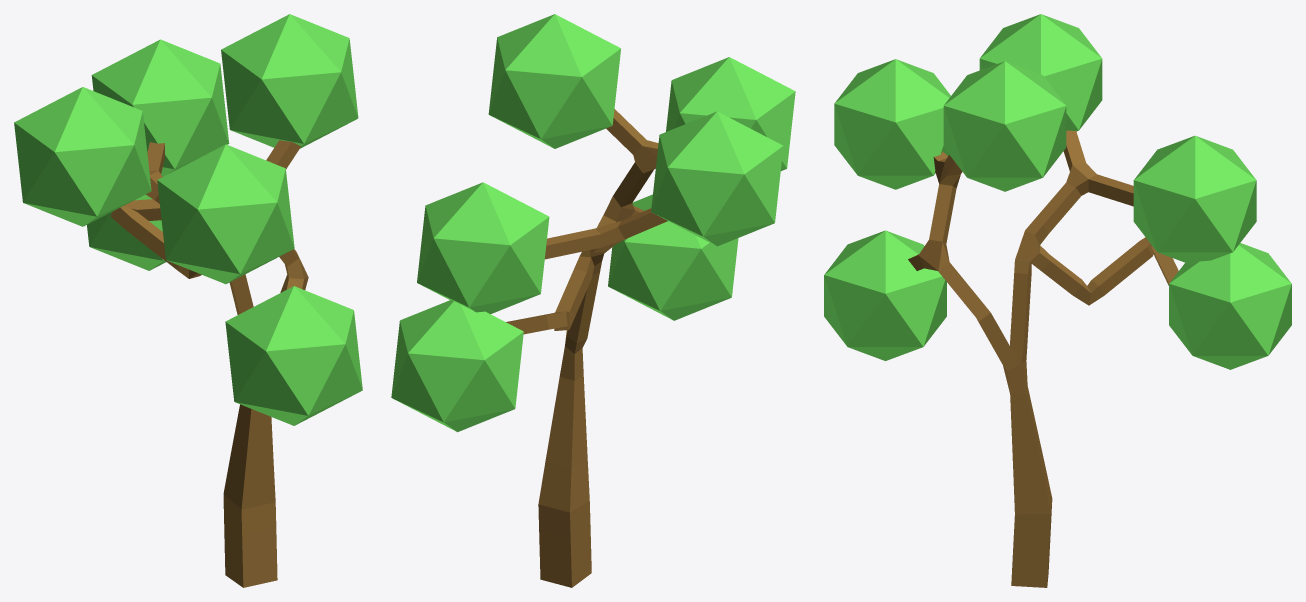
The model's file is tree.fbx.
3 views of the same model, side by side, from view 1: azimuth 30°, elevation 25°; view 2: azimuth 150°, elevation 25°; view 3: azimuth 270°, elevation 25° (orthographic). The views are drawn at different scales.
Parts seen in each view (by area): view 1: Icosphere.007, Icosphere.003, Icosphere.004, Icosphere.005, Cube, Icosphere.002, Icosphere.001; view 2: Cube, Icosphere.003, Icosphere.005, Icosphere.002, Icosphere.001, Icosphere.007, Icosphere.004; view 3: Cube, Icosphere.005, Icosphere.002, Icosphere.007, Icosphere.001, Icosphere.004, Icosphere.003.
Part boxes in pixels (<box>): Icosphere.007: <box>225,286,362,425</box>; Icosphere.003: <box>14,87,151,226</box>; Icosphere.004: <box>157,144,294,284</box>; Icosphere.005: <box>221,14,358,148</box>; Cube: <box>110,140,308,587</box>; Icosphere.002: <box>91,39,229,176</box>; Icosphere.001: <box>87,194,165,270</box>; Cube: <box>506,109,667,587</box>; Icosphere.003: <box>651,111,783,246</box>; Icosphere.005: <box>488,14,620,148</box>; Icosphere.002: <box>417,182,549,314</box>; Icosphere.001: <box>391,300,523,432</box>; Icosphere.007: <box>608,194,738,320</box>; Icosphere.004: <box>666,57,795,170</box>; Cube: <box>908,130,1178,587</box>; Icosphere.005: <box>943,61,1066,191</box>; Icosphere.002: <box>1133,135,1256,264</box>; Icosphere.007: <box>824,230,946,360</box>; Icosphere.001: <box>1169,243,1291,369</box>; Icosphere.004: <box>834,59,950,189</box>; Icosphere.003: <box>979,14,1102,131</box>.
Bounding box in the file's own units: 459 × 811 × 648.
